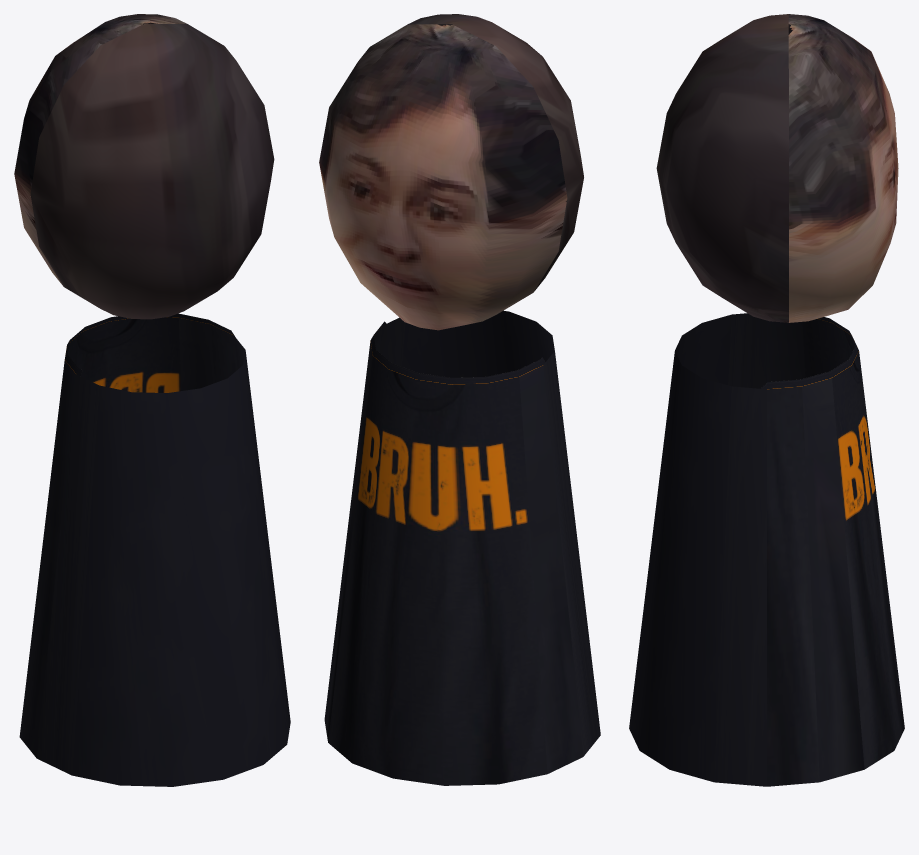
File: josh_mii.fbx
The picture shows the model from 3 angles, left to right: view 1: azimuth 30°, elevation 25°; view 2: azimuth 150°, elevation 25°; view 3: azimuth 270°, elevation 25°; orthographic projection.
Visible parts, largest first — view 1: mii; view 2: mii; view 3: mii.
Boxes of the visible parts, x1=… form: mii: x1=14, y1=14, x2=290, y2=786; mii: x1=319, y1=14, x2=600, y2=785; mii: x1=629, y1=14, x2=904, y2=786.
Size of the model in its own units: 50 by 160 by 50.
